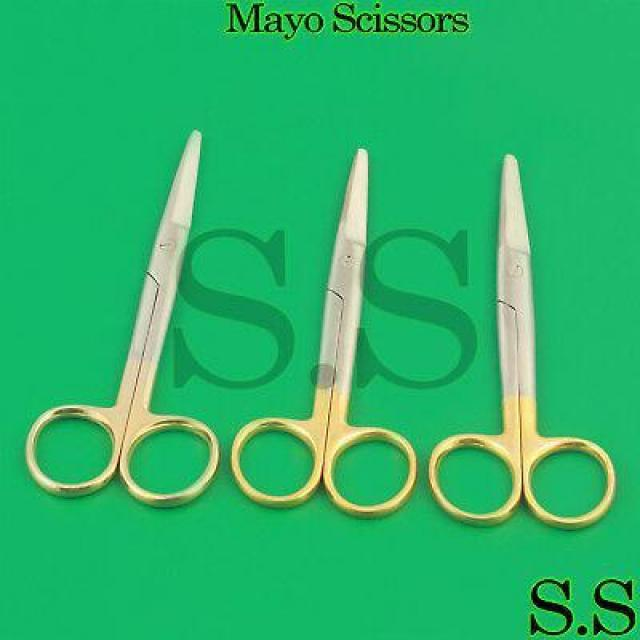Mayo_metz: (22, 123, 226, 510), (224, 146, 422, 522), (424, 152, 619, 533)
